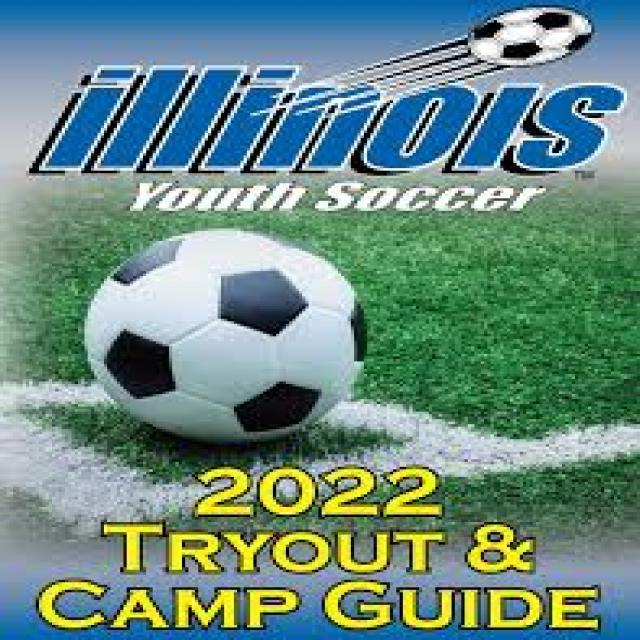ball: (84, 227, 369, 446)
